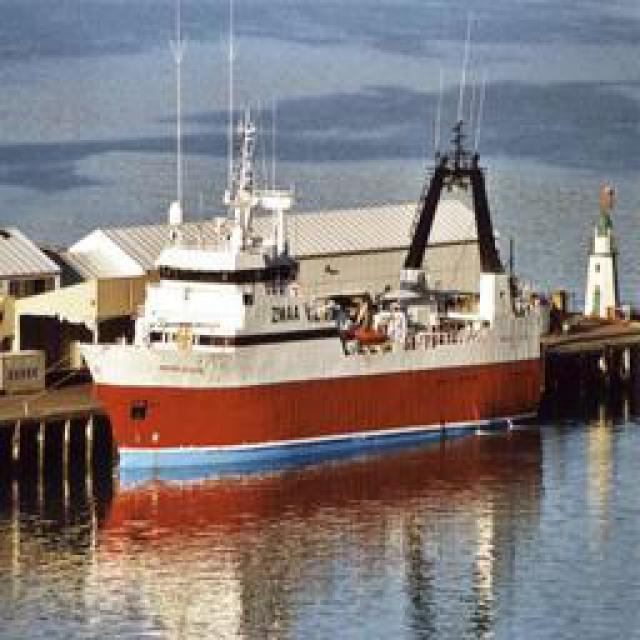Ship: (81, 70, 559, 470)
